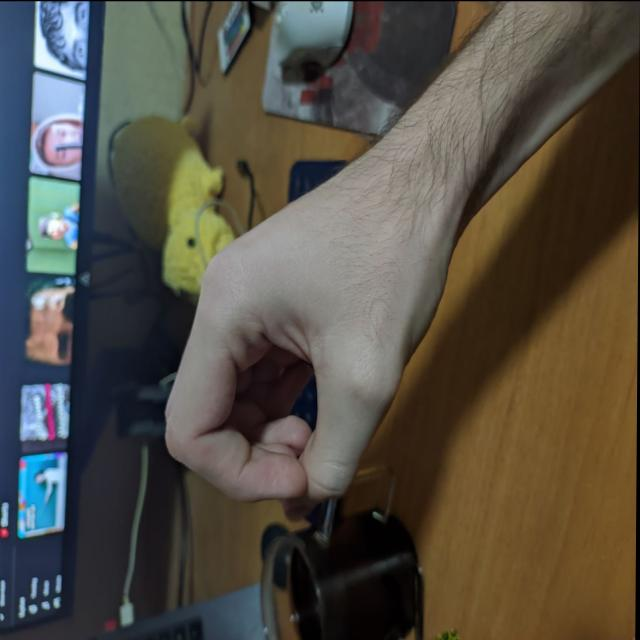e: (137, 123, 457, 507)
